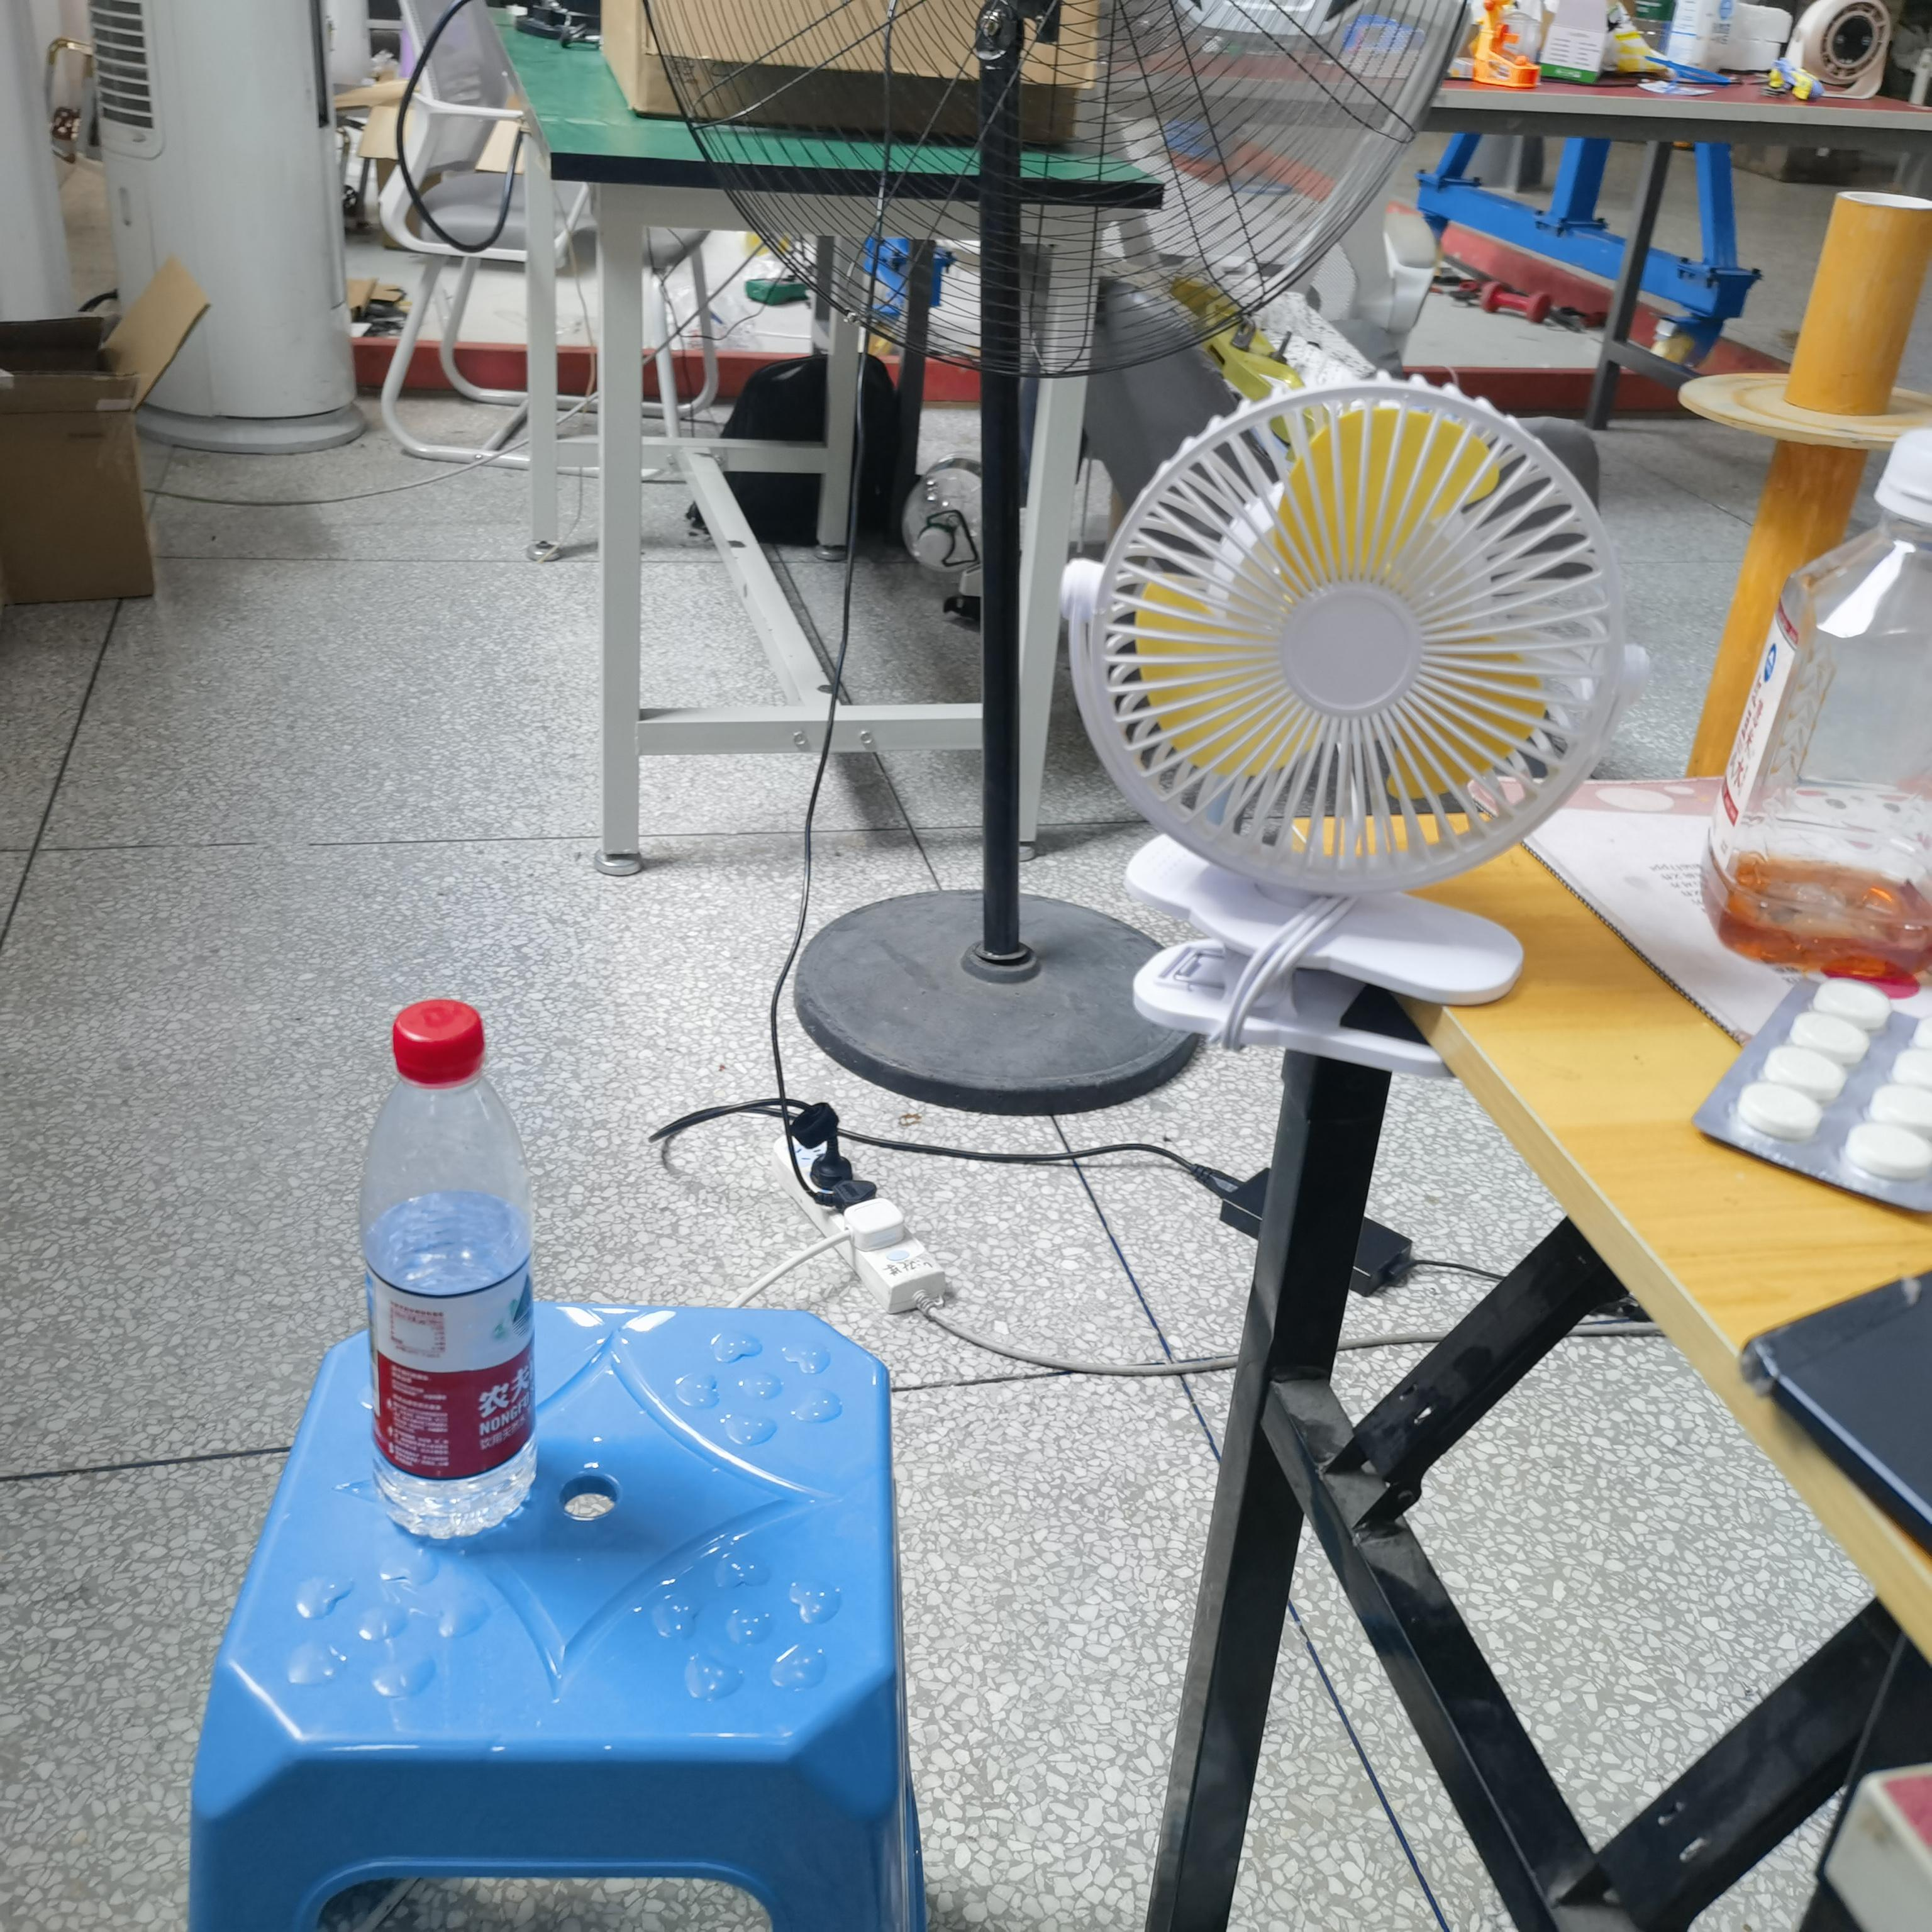bottle: (340, 985, 557, 1560)
fan: (1056, 382, 1658, 1099)
